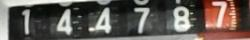digits: (172, 5, 194, 31), (210, 1, 228, 27), (56, 8, 73, 35), (94, 6, 111, 33), (133, 6, 150, 33), (21, 8, 30, 34)
